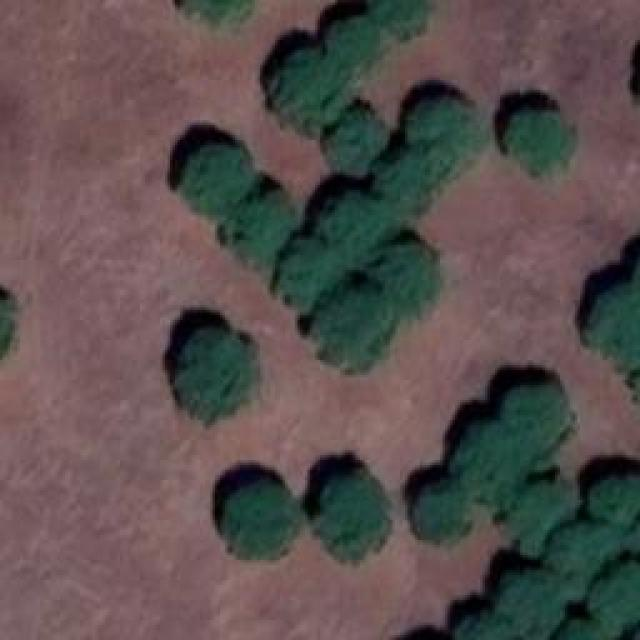Tree: (180, 330, 258, 415), (317, 293, 395, 368), (278, 55, 351, 125), (460, 422, 525, 500), (225, 485, 295, 555), (508, 482, 578, 550), (325, 480, 385, 553), (375, 240, 435, 313), (280, 243, 345, 306), (410, 100, 480, 158), (587, 290, 640, 365), (233, 198, 296, 261), (333, 198, 396, 261), (185, 148, 250, 208), (500, 575, 563, 635), (505, 388, 568, 448), (552, 528, 620, 581), (508, 110, 571, 165), (383, 158, 448, 208), (330, 112, 385, 170), (592, 478, 640, 538), (595, 565, 640, 623), (175, 0, 260, 30), (415, 488, 465, 538), (330, 18, 378, 68), (375, 0, 433, 35), (2, 285, 22, 358), (458, 620, 511, 640), (560, 622, 608, 640)
